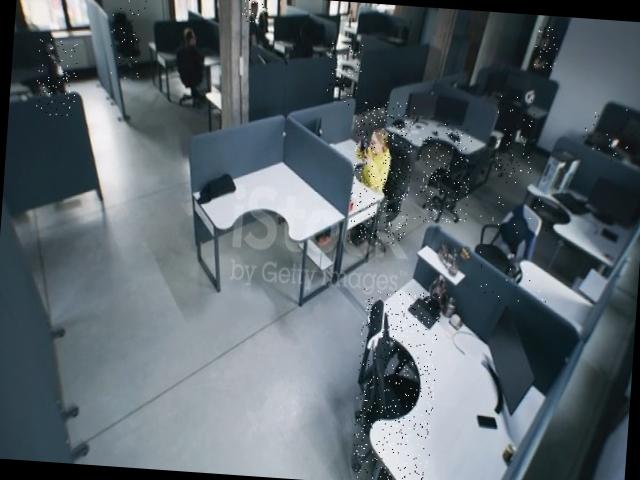empty chair: (350, 288, 440, 480), (472, 196, 552, 304), (414, 120, 472, 224), (492, 94, 536, 184), (34, 38, 80, 116), (108, 0, 146, 79), (324, 42, 362, 105)
occupiedchair: (347, 99, 415, 246), (168, 16, 212, 113), (579, 106, 640, 164)
